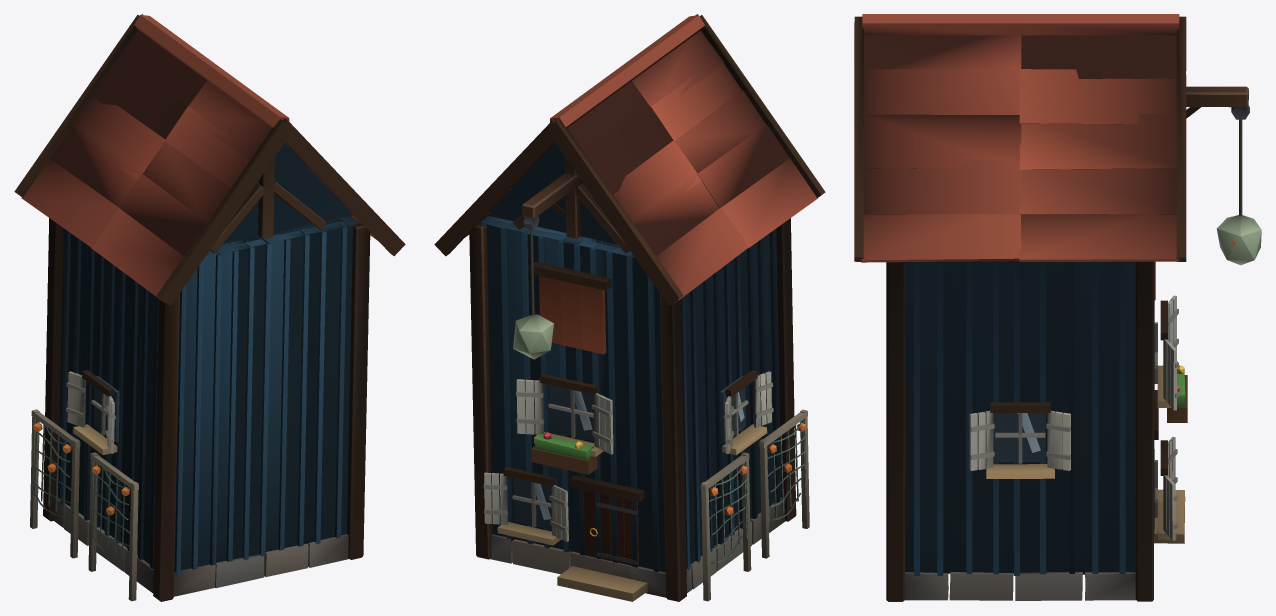
File: HD_NetLoft.glb
The picture shows the model from 3 angles, left to right: view 1: azimuth 30°, elevation 25°; view 2: azimuth 150°, elevation 25°; view 3: azimuth 270°, elevation 25°; orthographic projection. The views are drawn at different scales.
Visible parts, largest first — view 1: HD_NetLoft_2_Wood, HD_NetLoft_5_SmoothPlastic, HD_NetLoft_1_Sandstone, HD_NetLoft_3_Wood; view 2: HD_NetLoft_2_Wood, HD_NetLoft_5_SmoothPlastic, HD_NetLoft_1_Sandstone, HD_NetLoft_3_Wood, HD_NetLoft_4_Metal; view 3: HD_NetLoft_2_Wood, HD_NetLoft_5_SmoothPlastic, HD_NetLoft_1_Sandstone, HD_NetLoft_3_Wood.
Part boxes in pixels (x1,y1,x2,y2): HD_NetLoft_2_Wood: (14,14,405,601); HD_NetLoft_5_SmoothPlastic: (21,15,378,565); HD_NetLoft_1_Sandstone: (54,424,348,596); HD_NetLoft_3_Wood: (30,249,214,601); HD_NetLoft_2_Wood: (434,14,825,601); HD_NetLoft_5_SmoothPlastic: (465,15,817,565); HD_NetLoft_1_Sandstone: (490,424,785,601); HD_NetLoft_3_Wood: (522,173,809,601); HD_NetLoft_4_Metal: (523,216,638,564); HD_NetLoft_2_Wood: (854,16,1187,601); HD_NetLoft_5_SmoothPlastic: (861,14,1261,528); HD_NetLoft_1_Sandstone: (905,365,1185,600); HD_NetLoft_3_Wood: (1186,86,1248,118).
Bounding box in the file's own units: 16.08 × 28.46 × 19.6.
